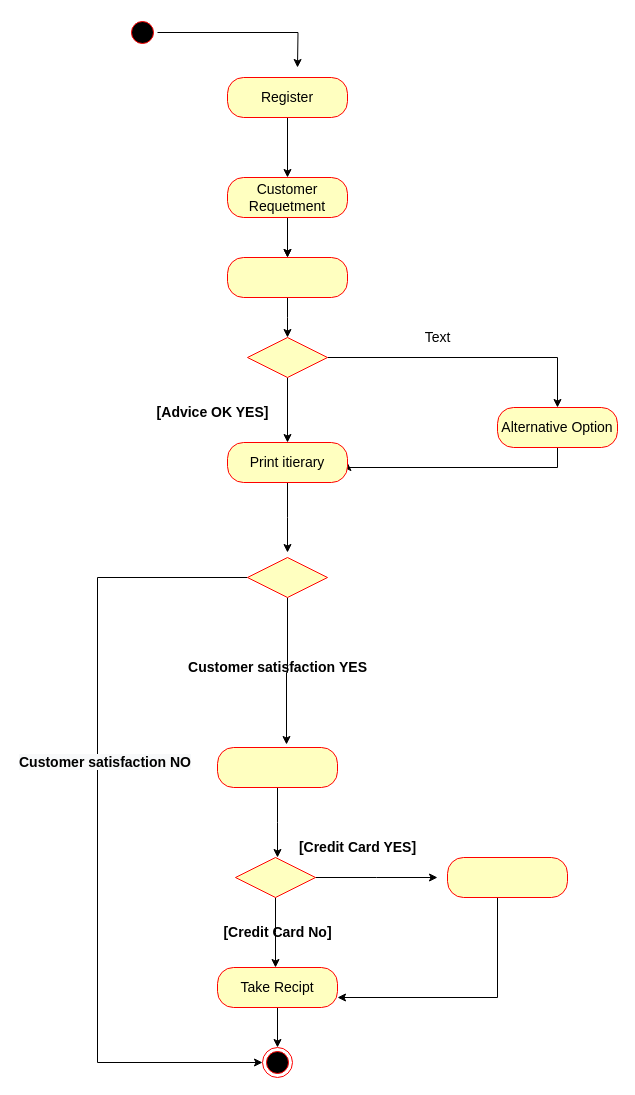
The diagram is 635 pixels wide and 1095 high, and some of its shapes have lost their labels. The centre of each missing label's shape, as x and y in pixels:
"Add commission" goes at point (507, 877).
"Consultant Advice" goes at point (287, 277).
"Payment" goes at point (277, 767).
